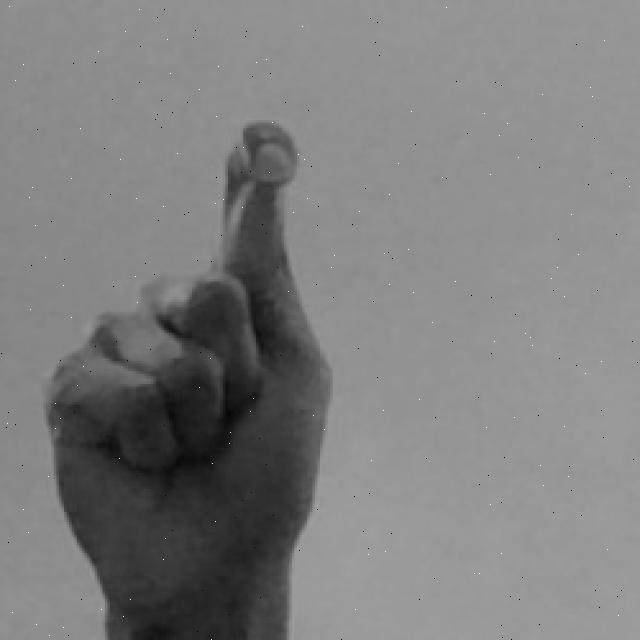T: (39, 115, 339, 640)
